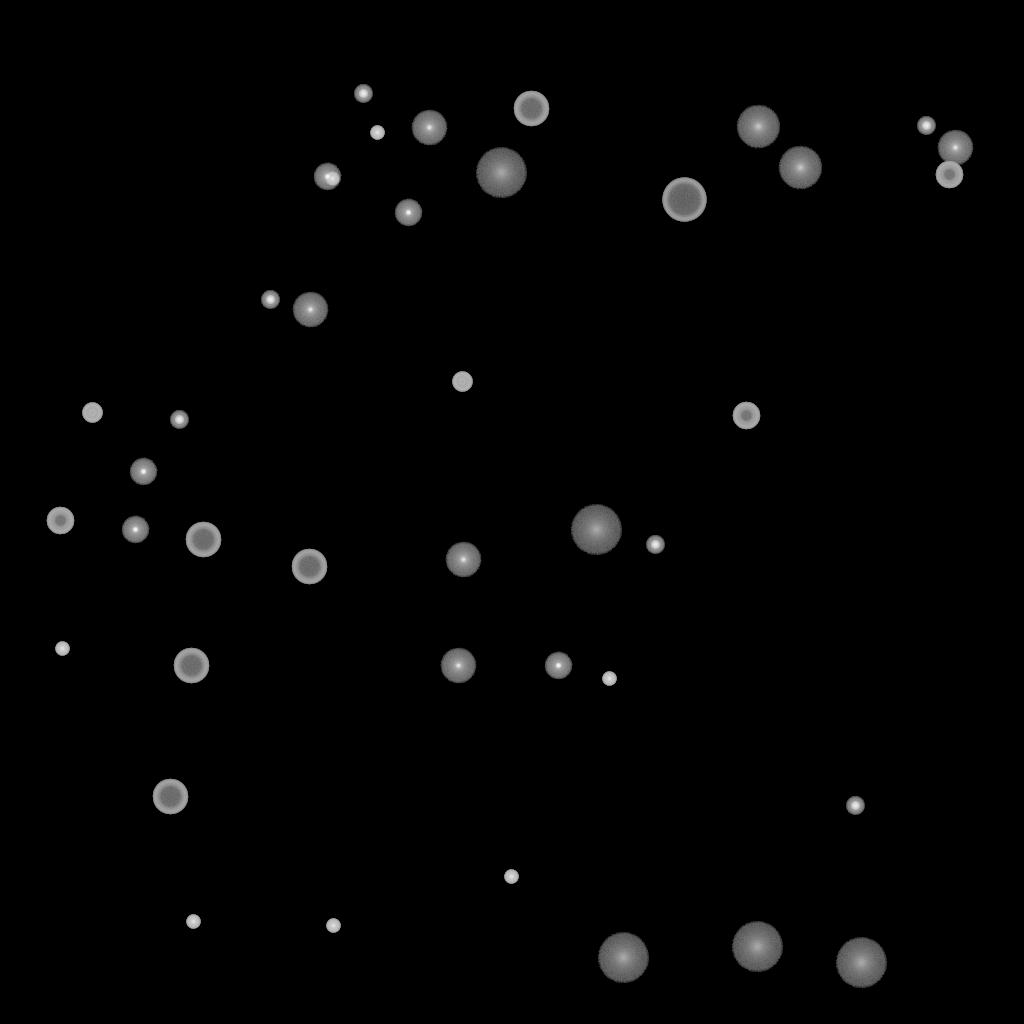depth:-10: (544, 652, 572, 680), (313, 163, 341, 191), (129, 458, 157, 486), (121, 516, 149, 544), (394, 199, 422, 227)
depth:-20: (846, 797, 864, 815), (170, 411, 188, 429), (917, 117, 935, 135), (354, 85, 372, 103), (646, 536, 664, 554), (261, 291, 279, 309)
depth:-30: (325, 172, 339, 186), (326, 919, 340, 933), (186, 915, 200, 929), (602, 672, 616, 686), (504, 870, 518, 884), (55, 642, 69, 656), (370, 126, 384, 140)
depth:-40: (452, 372, 472, 392), (82, 403, 102, 423)
depth:-50: (935, 161, 963, 189), (732, 402, 760, 430), (46, 507, 74, 535)
depth:-60: (152, 779, 188, 815), (185, 522, 221, 558), (173, 648, 209, 684), (513, 91, 549, 127), (291, 549, 327, 585)
depth:-70: (662, 178, 706, 222)
depth:0: (440, 648, 476, 684), (292, 292, 328, 328), (411, 110, 447, 146), (445, 542, 481, 578), (937, 130, 973, 166)
depth:10: (778, 146, 822, 190), (736, 105, 780, 149)
depth:20: (597, 933, 649, 983), (475, 148, 527, 198), (835, 938, 887, 988), (570, 505, 622, 555), (731, 922, 783, 972)
